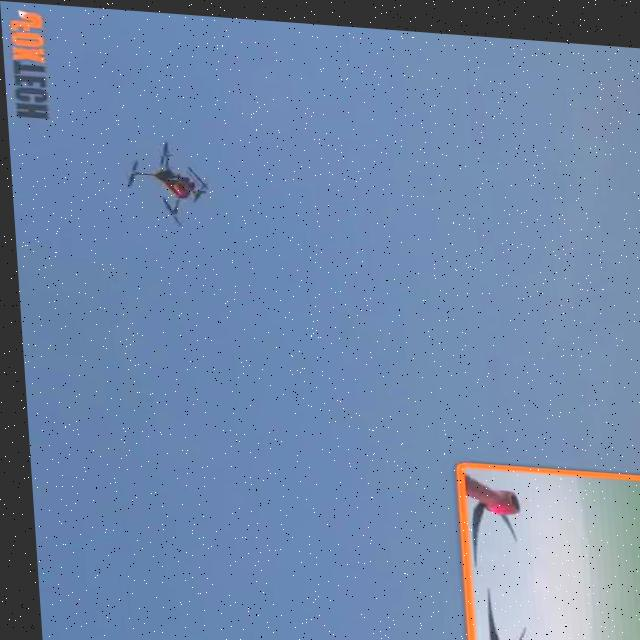drone: (117, 129, 222, 229)
